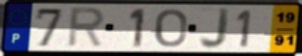1: (127, 7, 147, 49), (236, 9, 254, 49)
7: (34, 7, 65, 48)
J: (198, 6, 233, 51)
O: (153, 8, 189, 49)
R: (64, 6, 108, 50)
